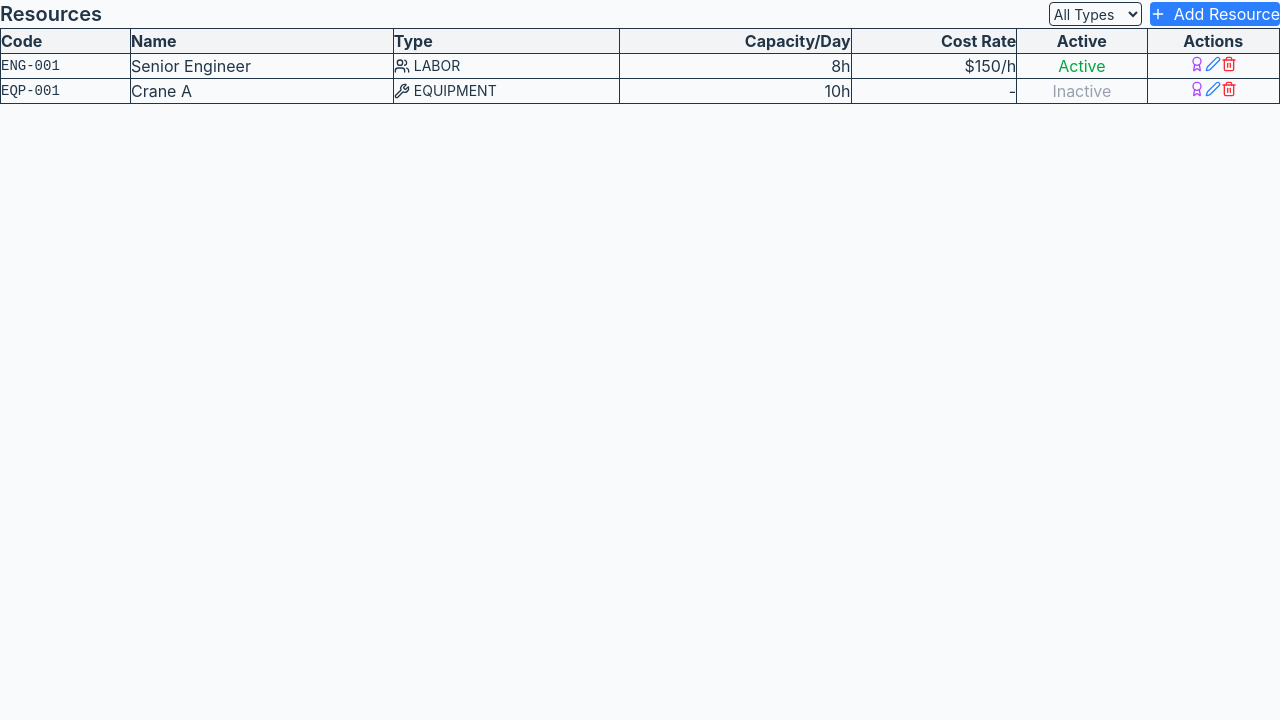
Test: ResourceList › opens create form when Add Resource is clicked
expect the text "ENG-001" is shown: met, box [0, 54, 130, 78]
Click the button "Add Resource". click: (1215, 14)
box: [1150, 2, 1279, 26]
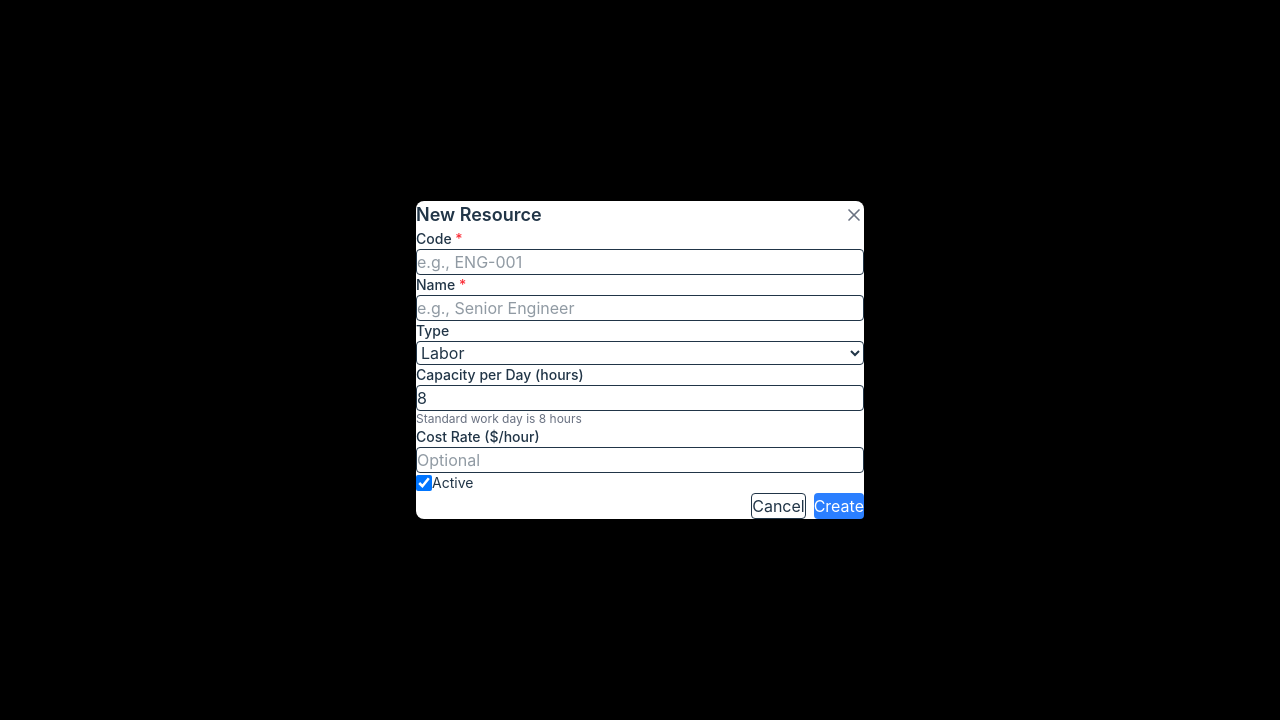
expect the heading "New Resource" is shown: met, box [416, 201, 542, 229]
